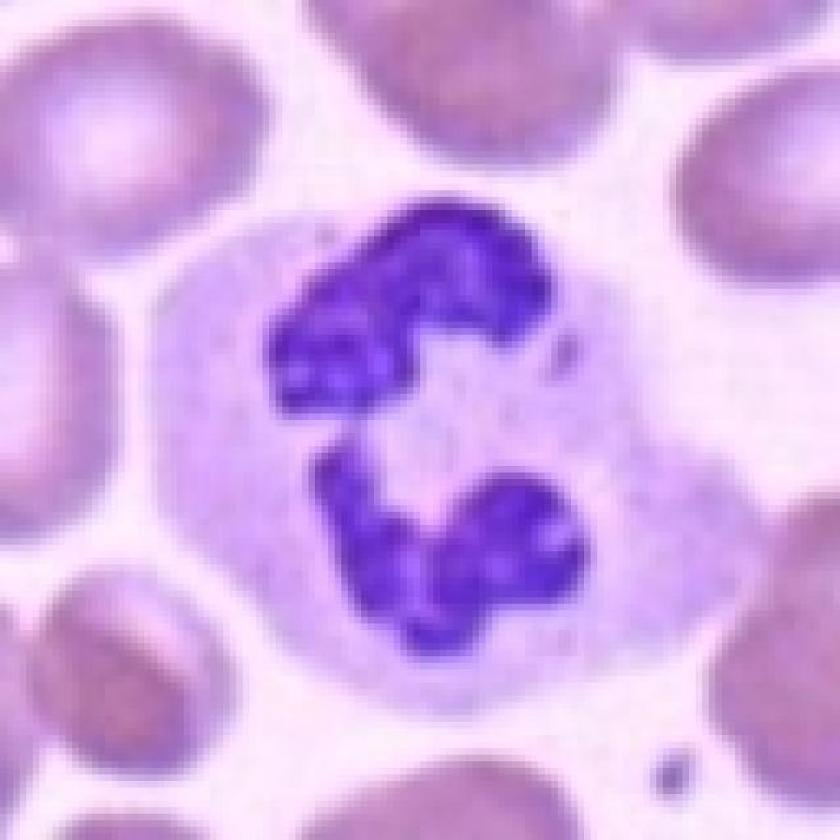neutrophil: (141, 191, 773, 719)
